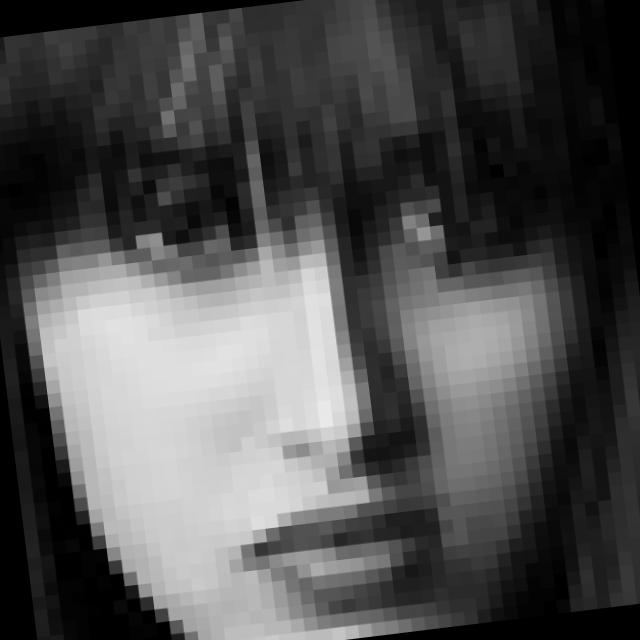neutral: (92, 88, 567, 640)
